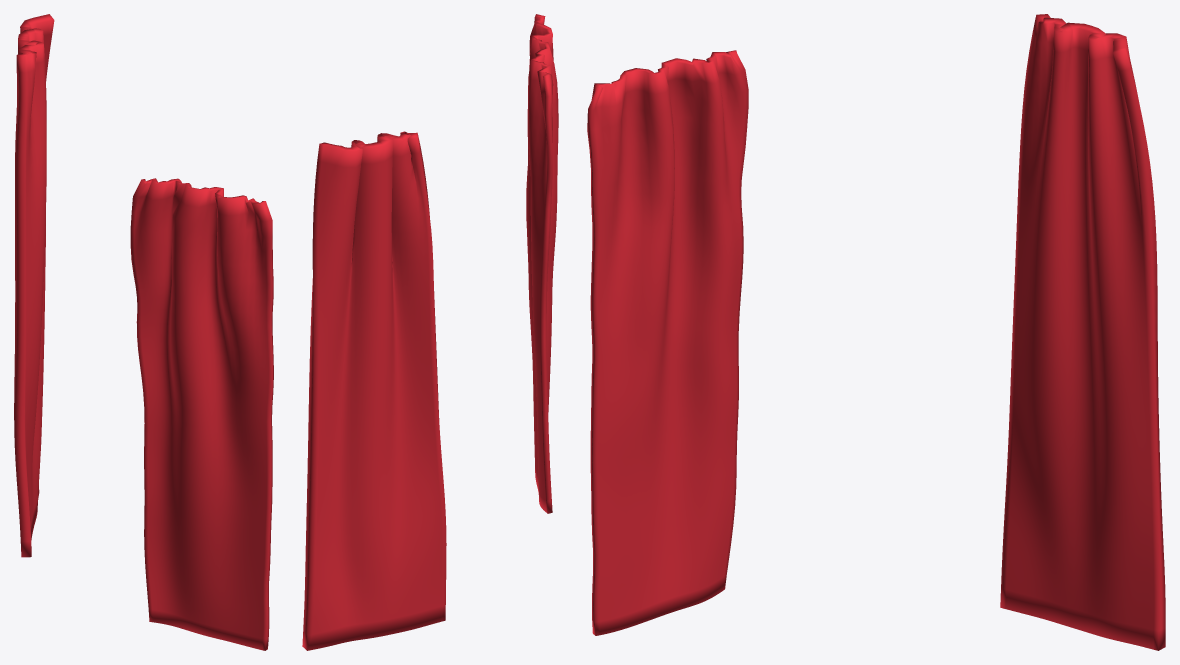
The model's file is Curtains.fbx.
The picture shows the model from 3 angles, left to right: view 1: azimuth 30°, elevation 25°; view 2: azimuth 150°, elevation 25°; view 3: azimuth 270°, elevation 25°; orthographic projection. The views are drawn at different scales.
Parts seen in each view (by area): view 1: Curtain1, Curtain2; view 2: Curtain2, Curtain1; view 3: Curtain2, Curtain1.
Boxes of the visible parts, box(x1,y1,x2,y2) form: Curtain1: box(130, 178, 273, 650); Curtain2: box(14, 14, 54, 557); Curtain2: box(302, 131, 446, 650); Curtain1: box(526, 14, 558, 513); Curtain2: box(1000, 14, 1165, 650); Curtain1: box(587, 50, 748, 635).
Size of the model in its own units: 644 by 3442 by 3004.
